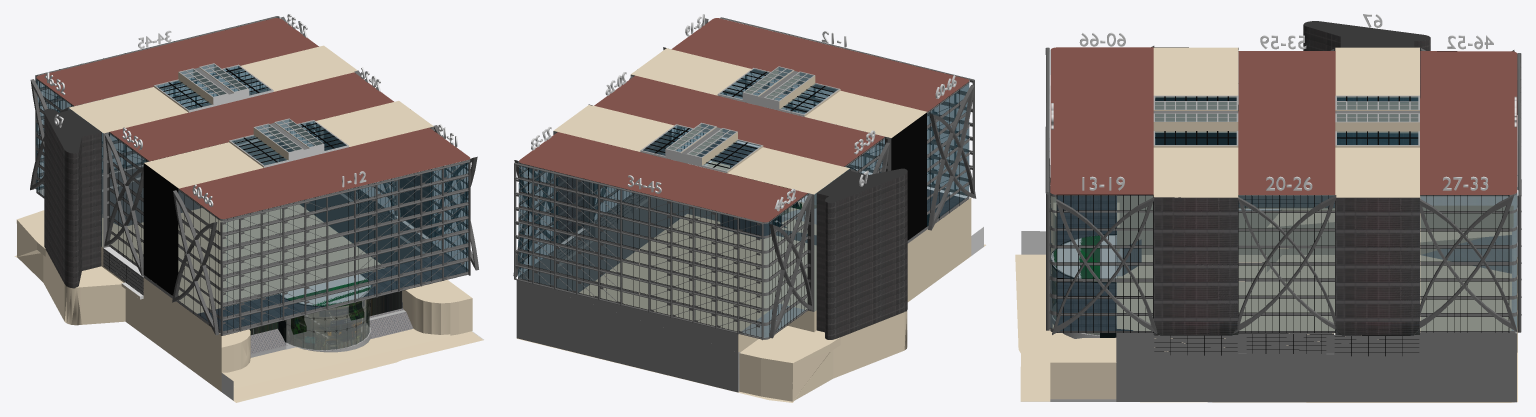
The model's file is CannonPlace.glb.
3 renders of one model, left to right at view 1: azimuth 30°, elevation 25°; view 2: azimuth 150°, elevation 25°; view 3: azimuth 270°, elevation 25°, orthographic. The views are drawn at different scales.
Visible parts, largest first — view 1: 5961.1500, Drop67, Drop6, Drop11, Drop9, Drop4, Drop10, Drop8, Drop5, Drop2, Drop7, Drop3 (+1 smaller); view 2: 5961.1500, Drop67, Drop39, Drop44, Drop42, Drop43, Drop40, Drop38, Drop41, Drop37, Drop36, Drop35 (+6 smaller); view 3: 5961.1500, Drop67, Drop16, Drop21, Drop15, Drop14, Drop30, Drop29, Drop18, Drop23, Drop22, Drop24 (+13 smaller).
Boxes of the visible parts, x1,y1,x2,y2 form: 5961.1500: [14, 16, 483, 402]; Drop67: [44, 113, 101, 288]; Drop6: [328, 191, 352, 305]; Drop11: [444, 163, 465, 276]; Drop9: [397, 175, 419, 288]; Drop4: [281, 203, 304, 316]; Drop10: [422, 170, 441, 281]; Drop8: [375, 181, 396, 293]; Drop5: [306, 198, 325, 310]; Drop2: [241, 214, 260, 326]; Drop7: [353, 186, 373, 299]; Drop3: [263, 209, 280, 321]; 5961.1500: [513, 17, 985, 402]; Drop67: [816, 172, 907, 339]; Drop39: [623, 191, 647, 309]; Drop44: [740, 219, 761, 336]; Drop42: [695, 208, 714, 325]; Drop43: [717, 213, 736, 330]; Drop40: [651, 197, 672, 314]; Drop38: [601, 186, 622, 302]; Drop41: [673, 203, 694, 319]; Drop37: [578, 181, 597, 296]; Drop36: [556, 175, 575, 290]; Drop35: [534, 170, 553, 285]; 5961.1500: [1015, 21, 1521, 402]; Drop67: [1303, 25, 1430, 144]; Drop16: [1101, 196, 1115, 330]; Drop21: [1252, 196, 1265, 330]; Drop15: [1086, 196, 1100, 330]; Drop14: [1071, 196, 1085, 330]; Drop30: [1461, 196, 1474, 330]; Drop29: [1447, 196, 1460, 330]; Drop18: [1131, 196, 1145, 330]; Drop23: [1280, 196, 1292, 330]; Drop22: [1266, 196, 1278, 330]; Drop24: [1294, 196, 1306, 330].
Size of the model in its own units: 126 by 73.47 by 150.
Materials: 138 (126 with a texture image).
